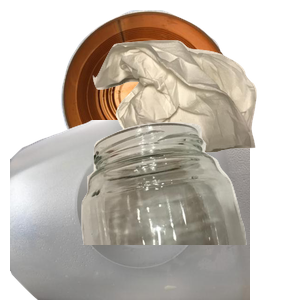glass: (74, 120, 300, 300)
metal: (58, 10, 289, 186)
plastic: (10, 120, 250, 300)
trash: (90, 38, 300, 183)
